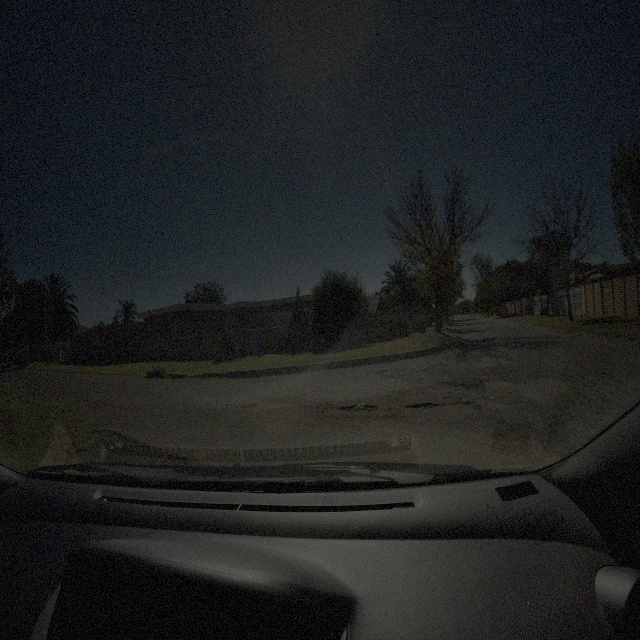pothole: (338, 402, 378, 412), (406, 402, 439, 412), (462, 399, 473, 407)
